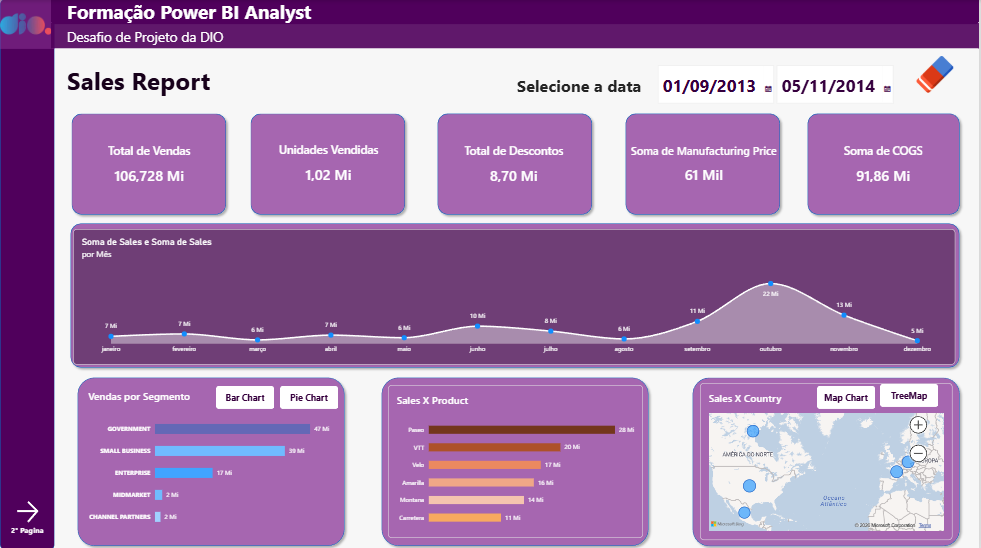

The page's visual inventory and layout, read from the dashboard file:
{"tool":"powerbi","page":{"name":"Página 1","canvas":[1920,1080],"ordinal":0},"visuals":[{"type":"shape","box":[0,0,106.9,1080.6],"z":0},{"type":"cardVisual","fields":{"Data":["Sum(financials.Sales)"]},"box":[122.8,227.5,339,193.4],"z":0,"group":"g1"},{"type":"map","title":"Sales X Country","fields":{"Category":["financials.Country"],"Size":["Sum(financials.Sales)"]},"box":[1372.1,752.9,495.3,307.5],"z":0,"group":"g3"},{"type":"slicer","fields":{"Values":["financials.Date"]},"box":[1282,126,526.7,236.7],"z":1000},{"type":"cardVisual","fields":{"Data":["Sum(financials.Units Sold)"]},"box":[464,225.2,359.4,193.4],"z":1000,"group":"g1"},{"type":"clusteredBarChart","fields":{"Category":["financials.Segment"],"Y":["Sum(financials.Sales)"]},"box":[157,750.7,505,309.4],"z":1000,"group":"g2"},{"type":"textbox","title":"Text_Data","box":[1013,148,300,300],"z":2000},{"type":"cardVisual","fields":{"Data":["Sum(financials.Discounts)"]},"box":[823.5,227.5,368.5,193.4],"z":2000,"group":"g1"},{"type":"shape","box":[0,0,106.9,97.8],"z":3000},{"type":"cardVisual","fields":{"Data":["Sum(financials.Manufacturing Price)"]},"box":[1096.4,227.5,564.2,193.4],"z":3000,"group":"g1"},{"type":"image","title":"Limpar","box":[1792,112,82,72],"z":4000},{"type":"cardVisual","fields":{"Data":["Sum(financials.COGS)"]},"box":[1562.8,227.5,339,193.4],"z":4000,"group":"g1"},{"type":"image","box":[0,0,102.4,97.8],"z":5000},{"type":"shape","box":[131.9,216.1,320.8,216.1],"z":6000},{"type":"shape","box":[482.3,216.1,320.8,216.1],"z":7000},{"type":"shape","box":[848.5,216.1,320.8,216.1],"z":8000},{"type":"shape","box":[1217.1,216.1,320.8,216.1],"z":9000},{"type":"shape","box":[1574.2,216.1,316.2,216.1],"z":10000},{"type":"shape","box":[129.7,432.2,1760.8,300.3],"z":11000},{"type":"shape","box":[100.1,0,1819.9,50],"z":12000},{"type":"shape","box":[100.1,47.8,1819.9,50],"z":13000},{"type":"shape","box":[1348.8,732.6,541.9,348.8],"z":14000},{"type":"textbox","box":[131.9,0,495.9,86.4],"z":15000},{"type":"textbox","box":[116,54.6,527.8,86.4],"z":16000},{"type":"textbox","box":[131.9,125.1,348.1,111.5],"z":17000},{"type":"shape","box":[739.3,732.5,541.4,348.1],"z":18000},{"type":"shape","box":[143.3,732.5,541.4,348.1],"z":19000},{"type":"lineChart","fields":{"Category":["financials.Date.Variação.Hierarquia de datas.Mês"],"Y":["Sum(financials.Sales)"]},"box":[144,450,1730,266],"z":20000},{"type":"clusteredBarChart","title":"Sales X Product","fields":{"Category":["financials.Product"],"Y":["Sum(financials.Sales)"]},"box":[760,757.5,500,300],"z":21000},{"type":"actionButton","box":[1784,96,100,102],"z":22000},{"type":"group","id":"g1","title":"Cartoes","box":[122.8,225.2,1779,195.6],"z":23000},{"type":"group","id":"g2","title":"SalesXSegmentos","box":[157,750.7,506,309.4],"z":24000},{"type":"group","id":"g3","title":"Sales_Countries","box":[1372.1,751.3,499.8,309.1],"z":25000},{"type":"actionButton","box":[4.7,951.7,99.7,109.2],"z":26000},{"type":"actionButton","box":[423.3,758.1,114,45],"z":27000},{"type":"actionButton","box":[548.8,758.1,114,45],"z":28000},{"type":"actionButton","title":"TreeMap","box":[1725.6,755.8,114,45],"z":29000},{"type":"actionButton","title":"MapChart","box":[1602.3,758.1,114,45],"z":30000}]}

Visuals, with their boxes on the page's 1920x1080 design canvas (x1, y1, x2, y2). These are canvas units, not pixel positions in the 981x548 screenshot, which may show the page scaled, cropped or inside an application window:
shape: bbox=[0, 0, 107, 1081]
cardVisual - Sum(financials.Sales): bbox=[123, 228, 462, 421]
"Sales X Country" map: bbox=[1372, 753, 1867, 1060]
slicer - financials.Date: bbox=[1282, 126, 1809, 363]
cardVisual - Sum(financials.Units Sold): bbox=[464, 225, 823, 419]
clusteredBarChart - financials.Segment x Sum(financials.Sales): bbox=[157, 751, 662, 1060]
"Text_Data" textbox: bbox=[1013, 148, 1313, 448]
cardVisual - Sum(financials.Discounts): bbox=[824, 228, 1192, 421]
shape: bbox=[0, 0, 107, 98]
cardVisual - Sum(financials.Manufacturing Price): bbox=[1096, 228, 1661, 421]
"Limpar" image: bbox=[1792, 112, 1874, 184]
cardVisual - Sum(financials.COGS): bbox=[1563, 228, 1902, 421]
image: bbox=[0, 0, 102, 98]
shape: bbox=[132, 216, 453, 432]
shape: bbox=[482, 216, 803, 432]
shape: bbox=[848, 216, 1169, 432]
shape: bbox=[1217, 216, 1538, 432]
shape: bbox=[1574, 216, 1890, 432]
shape: bbox=[130, 432, 1890, 732]
shape: bbox=[100, 0, 1920, 50]
shape: bbox=[100, 48, 1920, 98]
shape: bbox=[1349, 733, 1891, 1081]
textbox: bbox=[132, 0, 628, 86]
textbox: bbox=[116, 55, 644, 141]
textbox: bbox=[132, 125, 480, 237]
shape: bbox=[739, 732, 1281, 1081]
shape: bbox=[143, 732, 685, 1081]
lineChart - financials.Date.Variação.Hierarquia de datas.Mês x Sum(financials.Sales): bbox=[144, 450, 1874, 716]
"Sales X Product" clusteredBarChart: bbox=[760, 758, 1260, 1058]
actionButton: bbox=[1784, 96, 1884, 198]
"Cartoes" group: bbox=[123, 225, 1902, 421]
"SalesXSegmentos" group: bbox=[157, 751, 663, 1060]
"Sales_Countries" group: bbox=[1372, 751, 1872, 1060]
actionButton: bbox=[5, 952, 104, 1061]
actionButton: bbox=[423, 758, 537, 803]
actionButton: bbox=[549, 758, 663, 803]
"TreeMap" actionButton: bbox=[1726, 756, 1840, 801]
"MapChart" actionButton: bbox=[1602, 758, 1716, 803]
